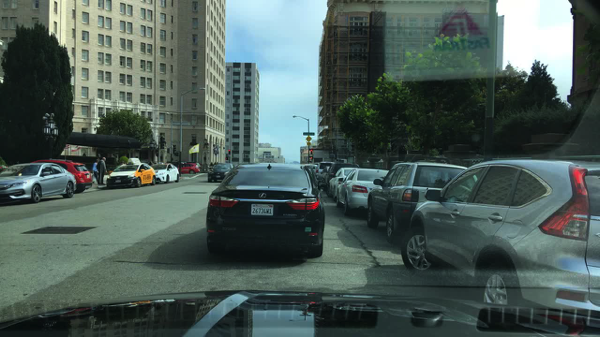car: (403, 157, 598, 318), (207, 163, 326, 260), (367, 163, 467, 243), (1, 163, 76, 203), (337, 169, 389, 217), (34, 160, 93, 193), (107, 158, 156, 188), (323, 163, 358, 194), (329, 168, 359, 200), (150, 164, 179, 184), (316, 162, 334, 191), (208, 163, 234, 182), (302, 164, 319, 184), (173, 162, 201, 174)
person: (97, 158, 106, 186), (94, 159, 100, 184), (96, 154, 100, 177)
traffic light: (161, 136, 165, 149), (173, 145, 177, 153), (309, 155, 314, 161), (175, 151, 180, 157), (167, 147, 170, 154), (309, 150, 313, 155), (228, 148, 230, 156), (225, 157, 229, 160)
traffic sign: (303, 132, 314, 136), (306, 136, 312, 142), (307, 142, 312, 146)
